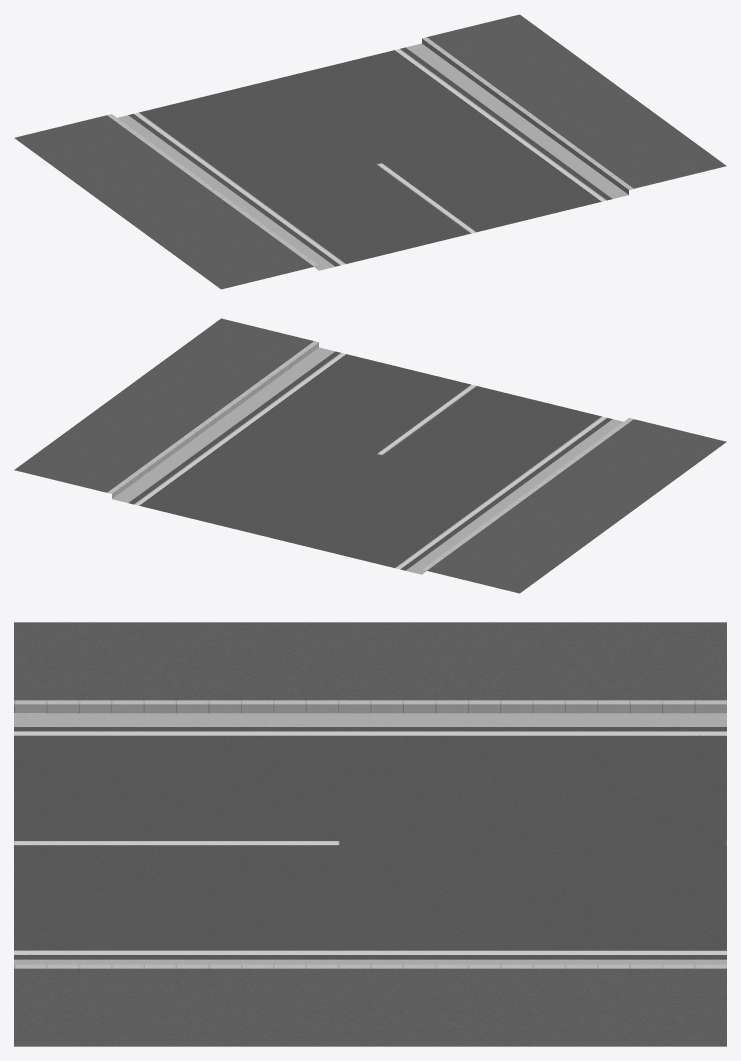
3 views of the same model, one above another, from view 1: azimuth 30°, elevation 25°; view 2: azimuth 150°, elevation 25°; view 3: azimuth 270°, elevation 25° (orthographic). The views are drawn at different scales.
Parts seen in each view (by area): view 1: Road10, Sidewalk10; view 2: Road10, Sidewalk10; view 3: Road10, Sidewalk10.
Part boxes in pixels (x1=…): Road10: x1=128, y1=47, x2=612, y2=266; Sidewalk10: x1=14, y1=14, x2=726, y2=289; Road10: x1=128, y1=351, x2=612, y2=570; Sidewalk10: x1=14, y1=318, x2=726, y2=593; Road10: x1=14, y1=727, x2=726, y2=959; Sidewalk10: x1=14, y1=622, x2=726, y2=1046.
Size of the model in its own units: 15.5 by 0.151 by 11.
3 materials, 3 textured.
